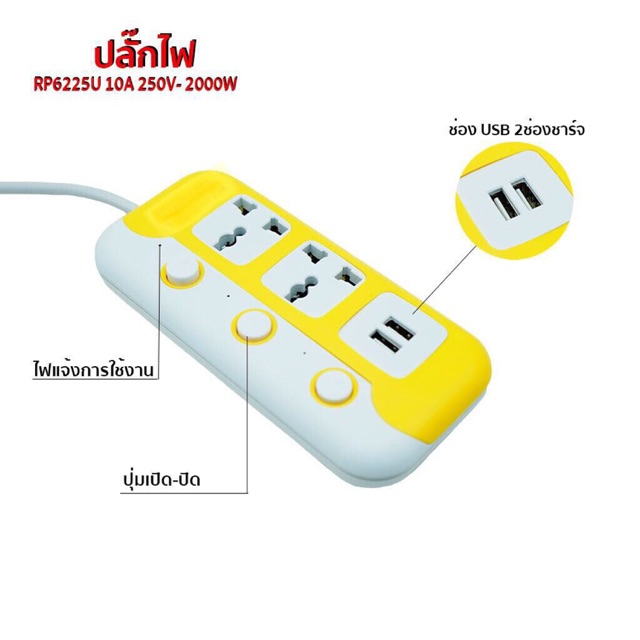Three_eye_plug: (92, 159, 495, 496)
